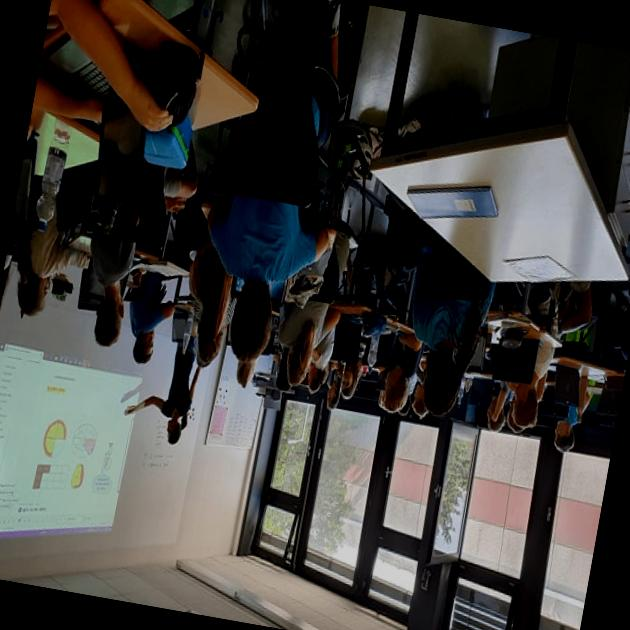projector: (0, 327, 149, 571)
there is a person: (204, 54, 362, 372), (131, 336, 214, 470)
there is a person sitting: (200, 3, 403, 384), (396, 229, 517, 428), (540, 337, 614, 465), (493, 310, 563, 428)
